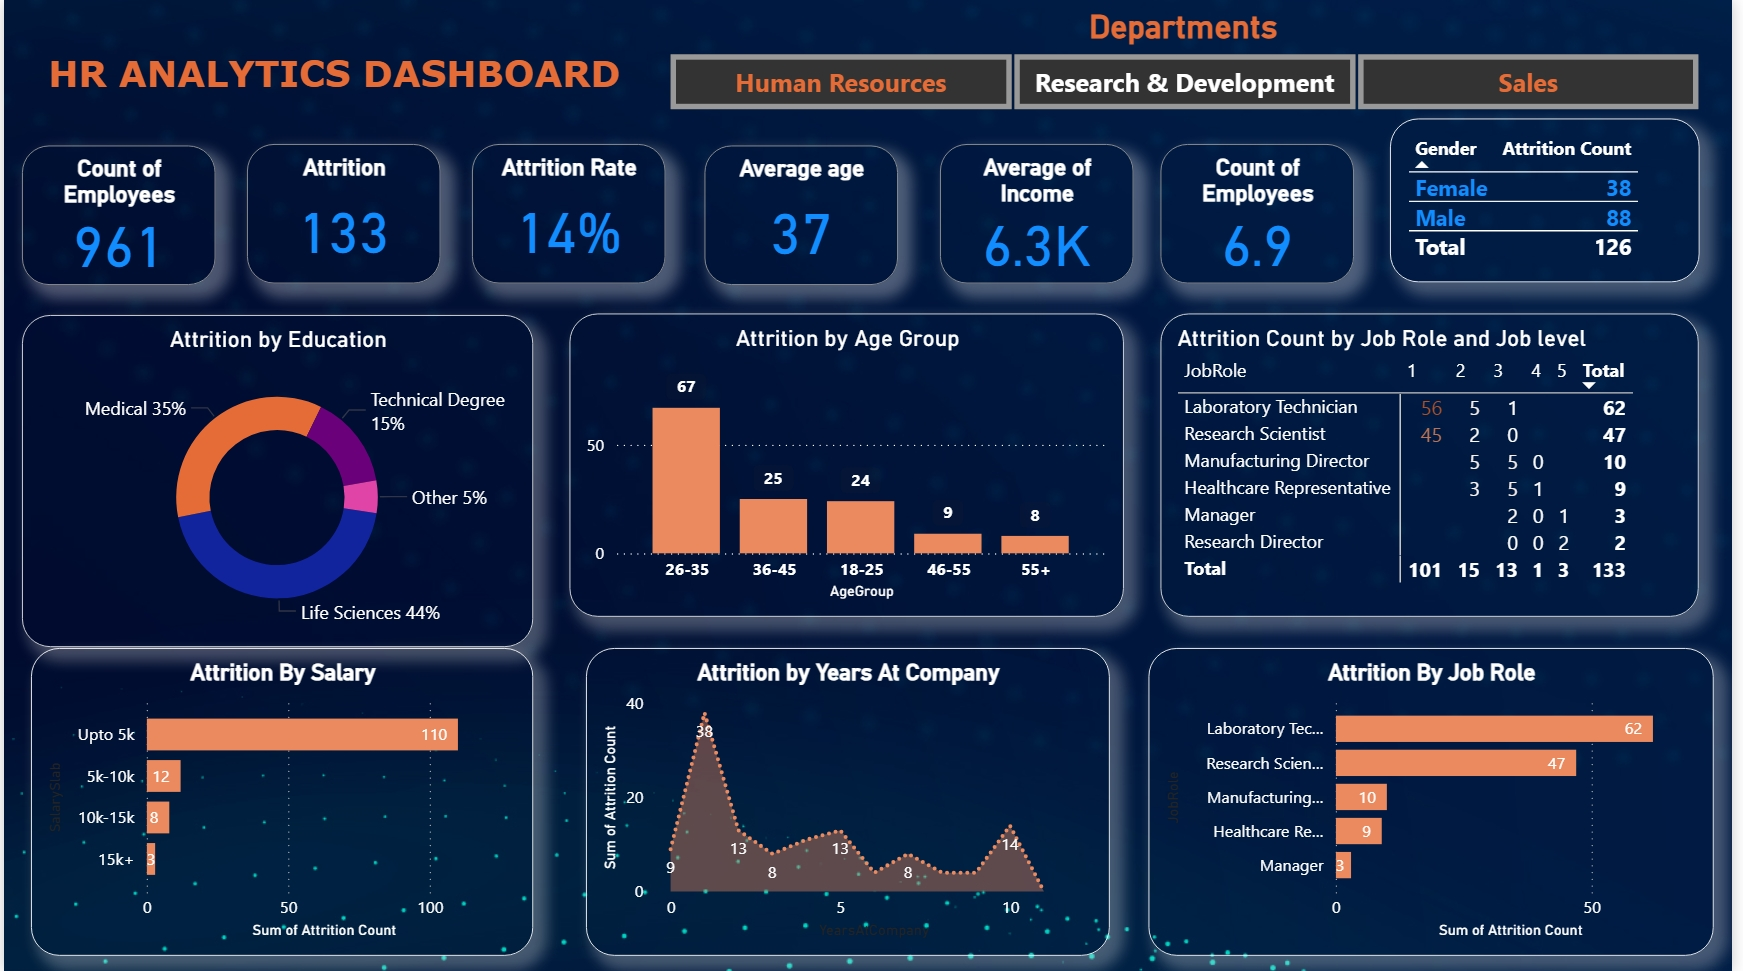

The page's visual inventory and layout, read from the dashboard file:
{"tool":"powerbi","page":{"name":"HR Analytics Dashboard","canvas":[1280,720],"ordinal":0},"visuals":[{"type":"card","title":"Count of Employees","fields":{"Values":["CountNonNull(HR_Analytics.EmpID)"]},"box":[13.8,107.7,143.1,103.1],"z":0},{"type":"card","title":"Average age","fields":{"Values":["Avg(HR_Analytics.Age)"]},"box":[518.5,107.7,143.1,103.1],"z":1000},{"type":"card","title":"Attrition Rate","fields":{"Values":["HR_Analytics.AttritionRate"]},"box":[346.2,106.2,143.1,103.1],"z":2000},{"type":"card","title":"Attrition","fields":{"Values":["Sum(HR_Analytics.Attrition Count)"]},"box":[180,106.2,143.1,103.1],"z":3000},{"type":"card","title":"Count of Employees","fields":{"Values":["Avg(HR_Analytics.YearsAtCompany)"]},"box":[856.9,106.2,143.1,103.1],"z":4000},{"type":"card","title":"Average of Income","fields":{"Values":["Avg(HR_Analytics.MonthlyIncome)"]},"box":[693.8,106.2,143.1,103.1],"z":5000},{"type":"donutChart","title":"Attrition by Education","fields":{"Y":["Sum(HR_Analytics.Attrition Count)"],"Category":["HR_Analytics.EducationField"]},"box":[13.8,233.8,378.5,246.2],"z":6000},{"type":"columnChart","title":"Attrition by Age Group","fields":{"Y":["Sum(HR_Analytics.Attrition Count)"],"Category":["HR_Analytics.AgeGroup"]},"box":[418.5,232.3,410.8,224.6],"z":7000},{"type":"pivotTable","title":"Attrition Count by Job Role and Job level","fields":{"Rows":["HR_Analytics.JobRole"],"Values":["Sum(HR_Analytics.Attrition Count)"],"Columns":["HR_Analytics.JobLevel"]},"box":[856.9,232.3,398.5,224.6],"z":8000},{"type":"barChart","title":"Attrition By Salary ","fields":{"Category":["HR_Analytics.SalarySlab"],"Y":["Sum(HR_Analytics.Attrition Count)"]},"box":[20,480,372.3,227.7],"z":9000},{"type":"barChart","title":"Attrition By Job Role","fields":{"Y":["Sum(HR_Analytics.Attrition Count)"],"Category":["HR_Analytics.JobRole"]},"box":[847.7,480,418.5,227.7],"z":10000},{"type":"stackedAreaChart","title":"Attrition by Years At Company","fields":{"Category":["HR_Analytics.YearsAtCompany"],"Y":["Sum(HR_Analytics.Attrition Count)"]},"box":[430.8,480,387.7,227.7],"z":11000},{"type":"tableEx","title":"Attrition by Year","fields":{"Values":["HR_Analytics.Gender","Sum(HR_Analytics.Attrition Count)"]},"box":[1026.2,87.7,229.2,121.5],"z":12000},{"type":"slicer","title":"Departments","fields":{"Values":["HR_Analytics.Department"]},"box":[467.9,6.1,811.6,81.8],"z":13000},{"type":"textbox","box":[27.7,32.3,447.7,55.4],"z":14000}]}

Visuals, with their boxes in screenshot pixels (x1, y1, x2, y2), scaled from the page's 1280x720 canvas onto the 1743x971 screenshot:
"Count of Employees" card: crop(19, 145, 214, 284)
"Average age" card: crop(706, 145, 901, 284)
"Attrition Rate" card: crop(471, 143, 666, 282)
"Attrition" card: crop(245, 143, 440, 282)
"Count of Employees" card: crop(1167, 143, 1362, 282)
"Average of Income" card: crop(945, 143, 1140, 282)
"Attrition by Education" donutChart: crop(19, 315, 534, 647)
"Attrition by Age Group" columnChart: crop(570, 313, 1129, 616)
"Attrition Count by Job Role and Job level" pivotTable: crop(1167, 313, 1710, 616)
"Attrition By Salary " barChart: crop(27, 647, 534, 954)
"Attrition By Job Role" barChart: crop(1154, 647, 1724, 954)
"Attrition by Years At Company" stackedAreaChart: crop(587, 647, 1115, 954)
"Attrition by Year" tableEx: crop(1397, 118, 1710, 282)
"Departments" slicer: crop(637, 8, 1742, 119)
textbox: crop(38, 44, 647, 118)
